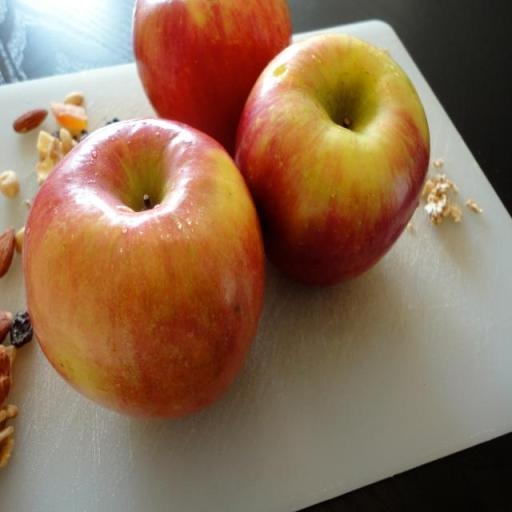fruit: (125, 163, 387, 502), (383, 64, 476, 266), (173, 0, 397, 1)
